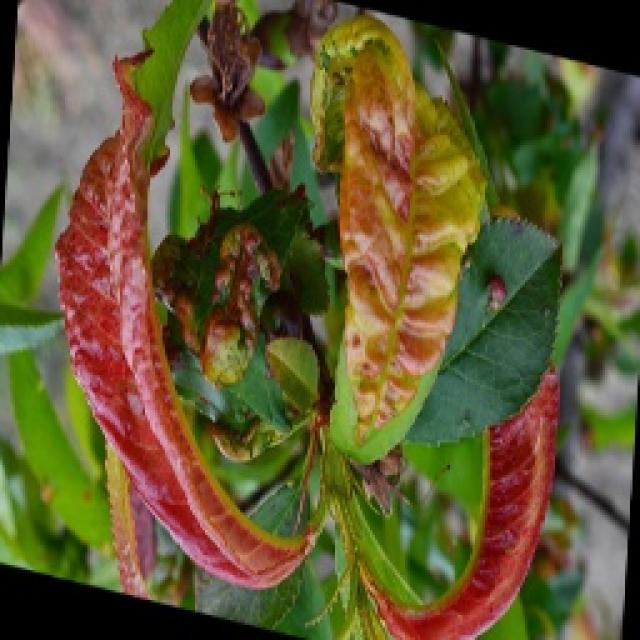peach_leaf_curl: (53, 0, 565, 638)
